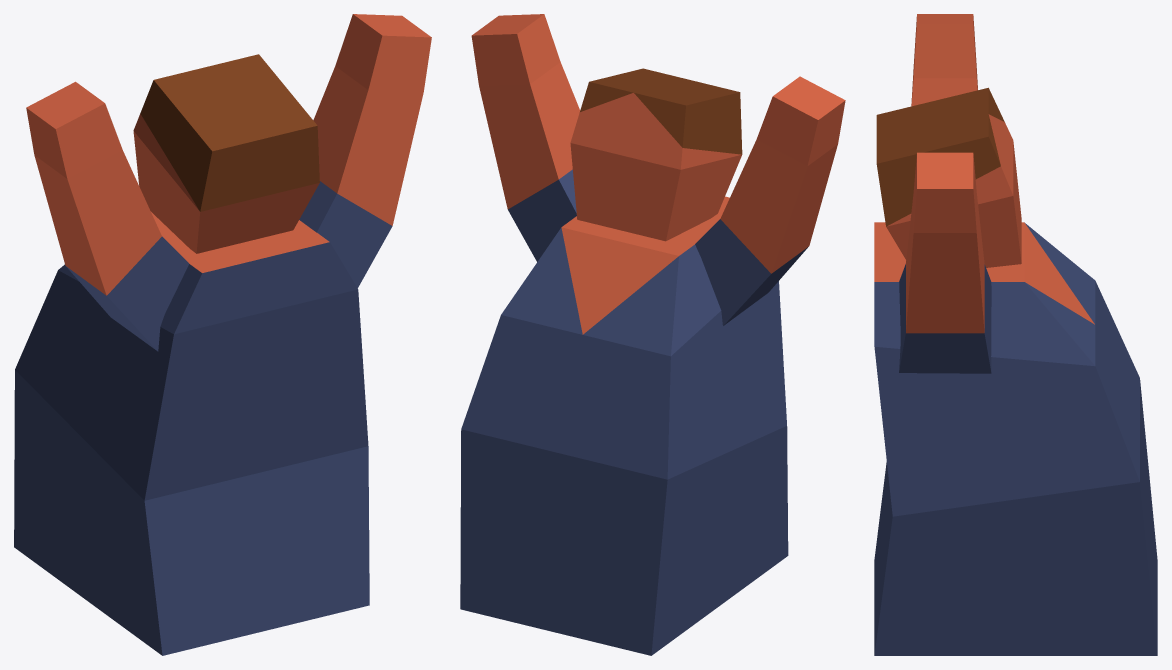
The model's file is spectator_06.fbx.
3 views of the same model, side by side, from view 1: azimuth 30°, elevation 25°; view 2: azimuth 150°, elevation 25°; view 3: azimuth 270°, elevation 25° (orthographic). The views are drawn at different scales.
Visible parts, largest first — view 1: spectator_06; view 2: spectator_06; view 3: spectator_06.
Boxes of the visible parts, box(x1,y1,x2,y2) form: spectator_06: box(14, 14, 431, 655); spectator_06: box(460, 14, 845, 655); spectator_06: box(874, 14, 1157, 655).
Bounding box in the file's own units: 184 × 254 × 125.
